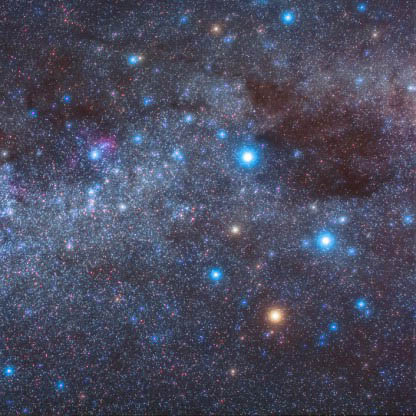Southern Cross: (223, 141, 261, 177), (255, 300, 292, 333), (310, 226, 342, 259), (197, 258, 229, 288)
